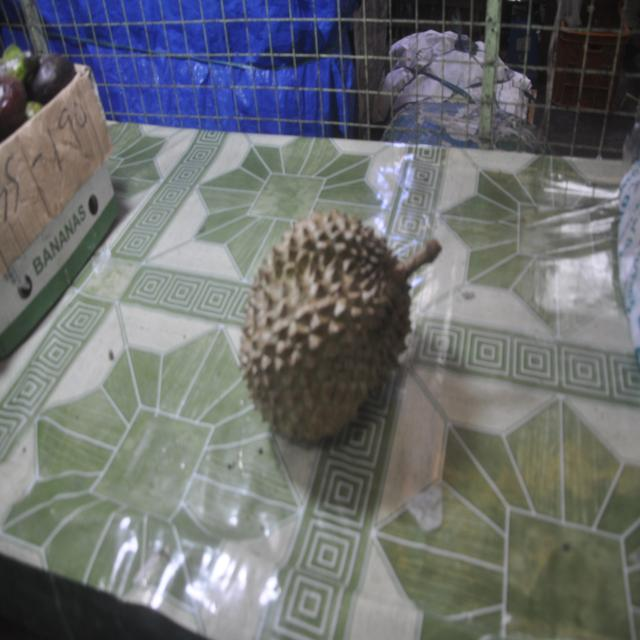mature: (240, 210, 441, 447)
